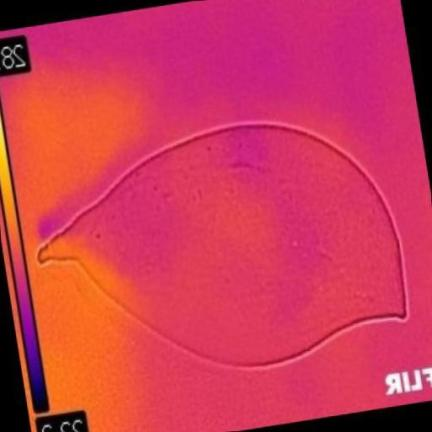mango: (40, 124, 404, 366)
